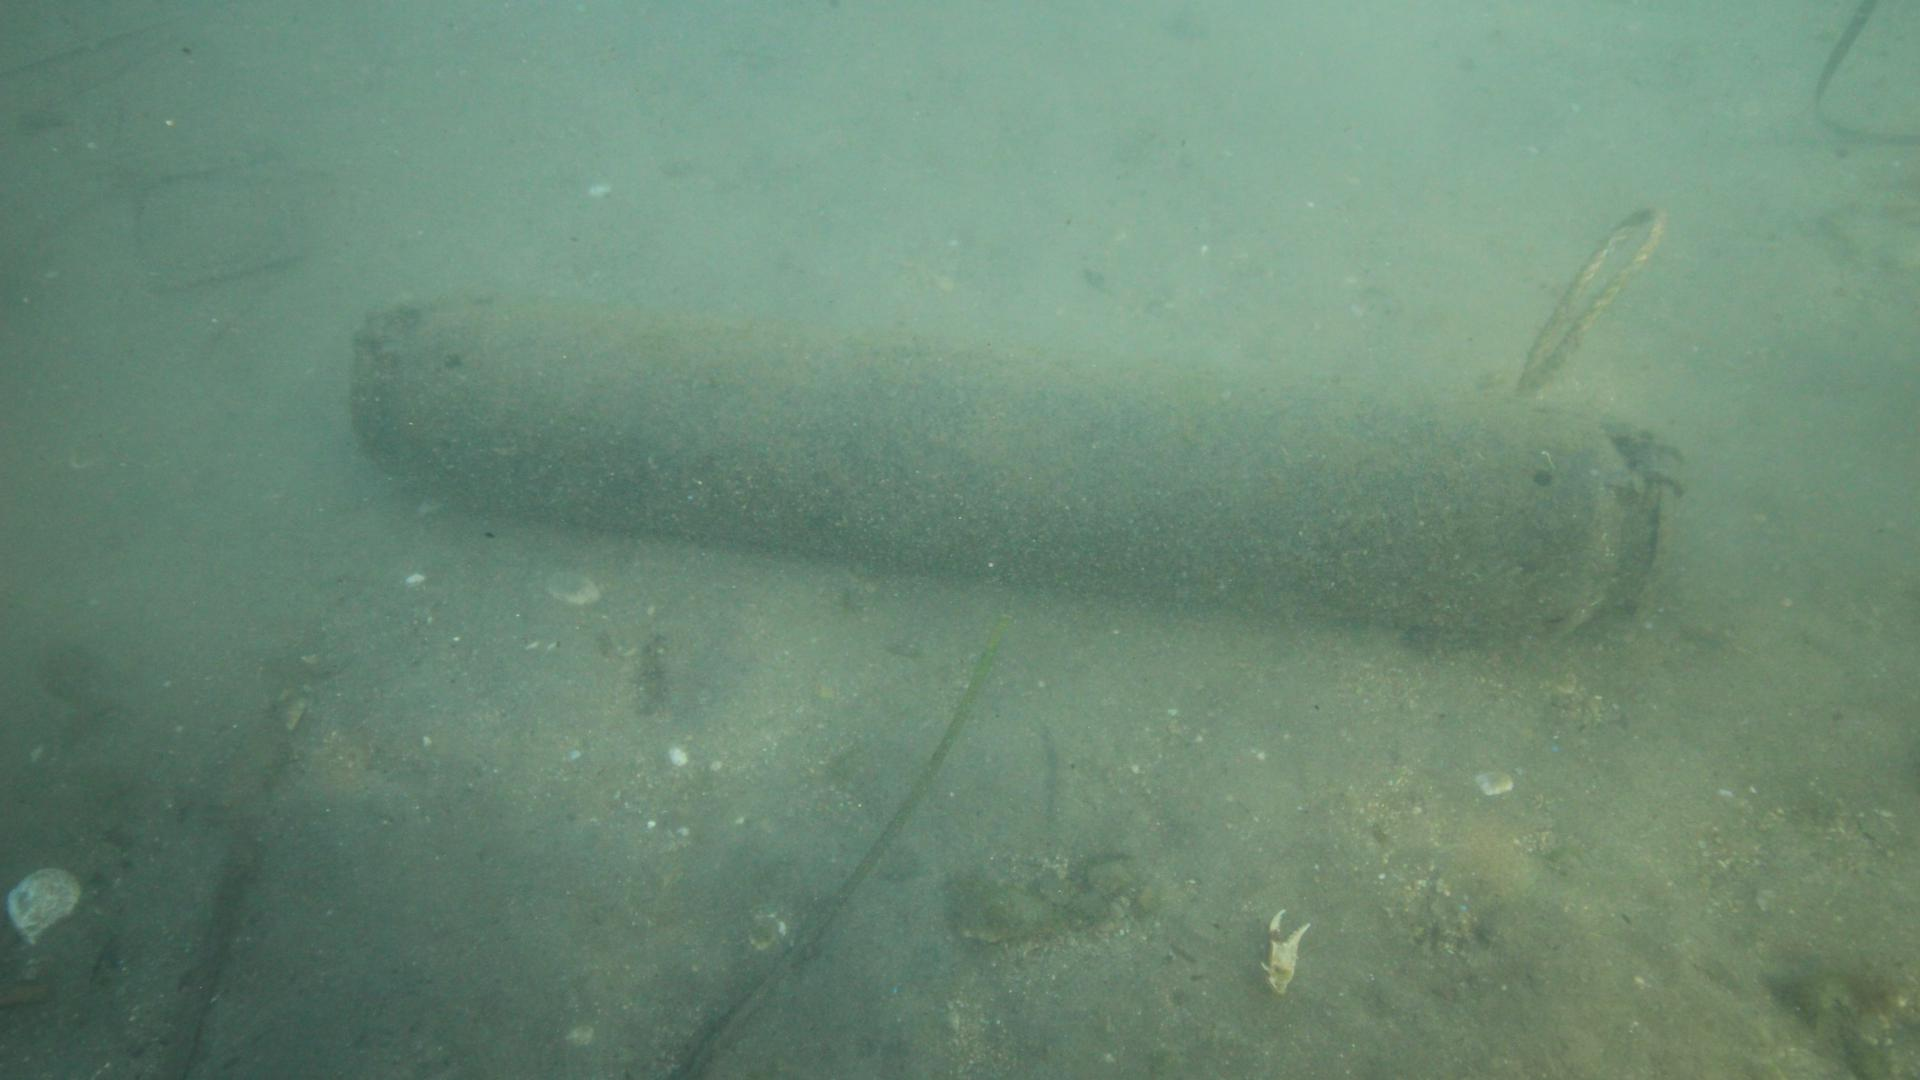eel fish trap: (347, 280, 1691, 644)
rope: (1516, 202, 1665, 393)
